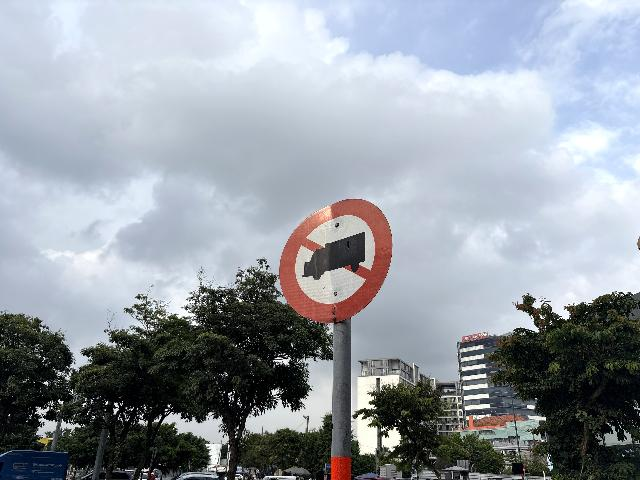cam-xe-tai: (279, 197, 391, 322)
